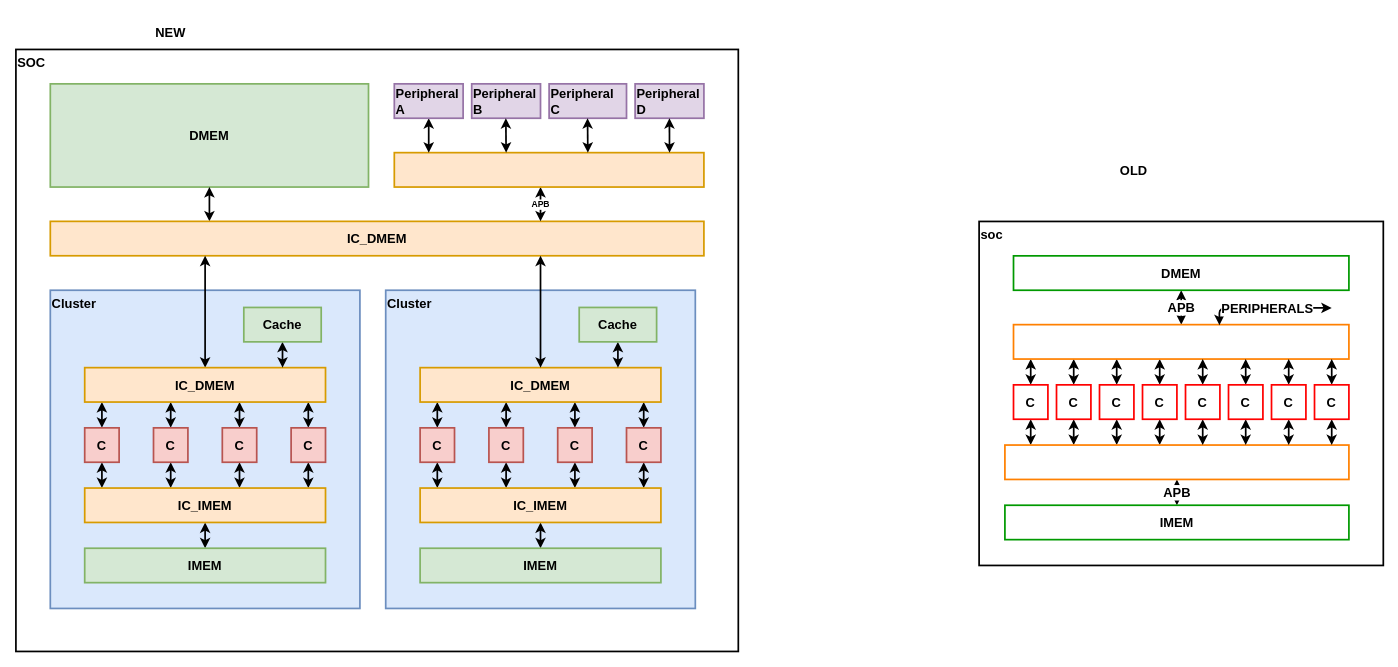
Some shapes in this 1398 by 667 pixel diagram are drawn without their labels. Here are the shapes that lost their labels. From the top down, the centre of each, then its label:
At pixel 548 169: "IC_PMEM".
At pixel 1180 341: "DMEM_IC".
At pixel 1176 462: "IMEM_IC".
